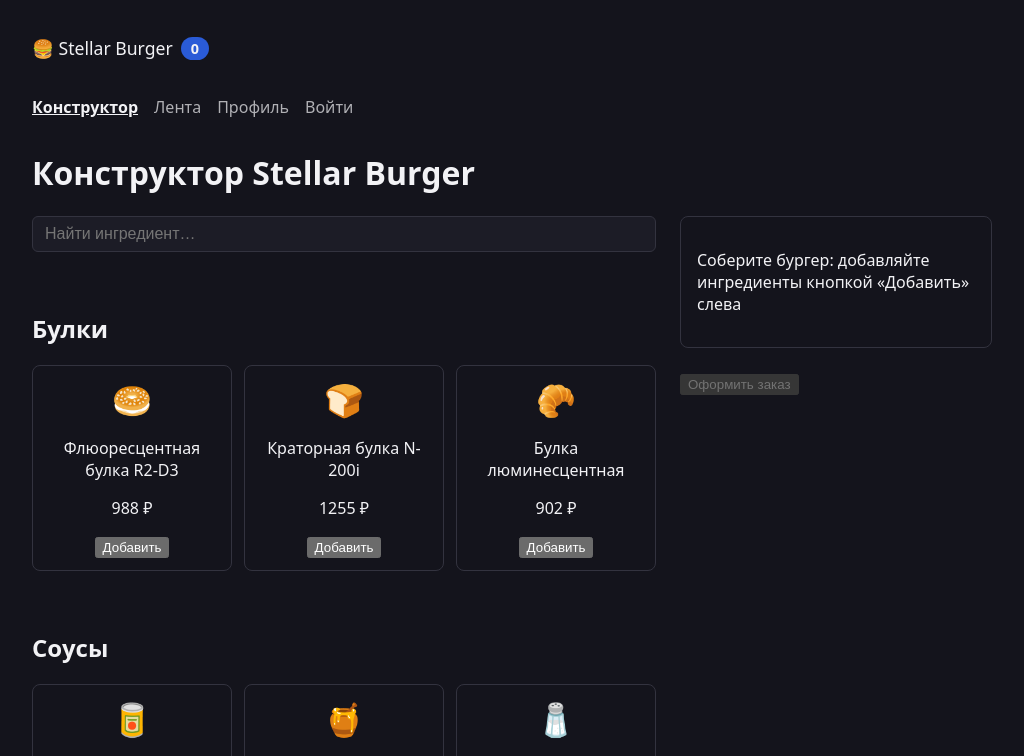
App — модальный маршрут › закрытие модалки (Escape) возвращает на фон, не теряя введённый поиск
expect the text "Флюоресцентная булка R2-D3" is shown: met, box [64,437,200,481]
Type "Соус Spicy-X" into the field with placeholder "Найти ингредиент…" at {"x": 344, "y": 234}, box [32,216,656,252]
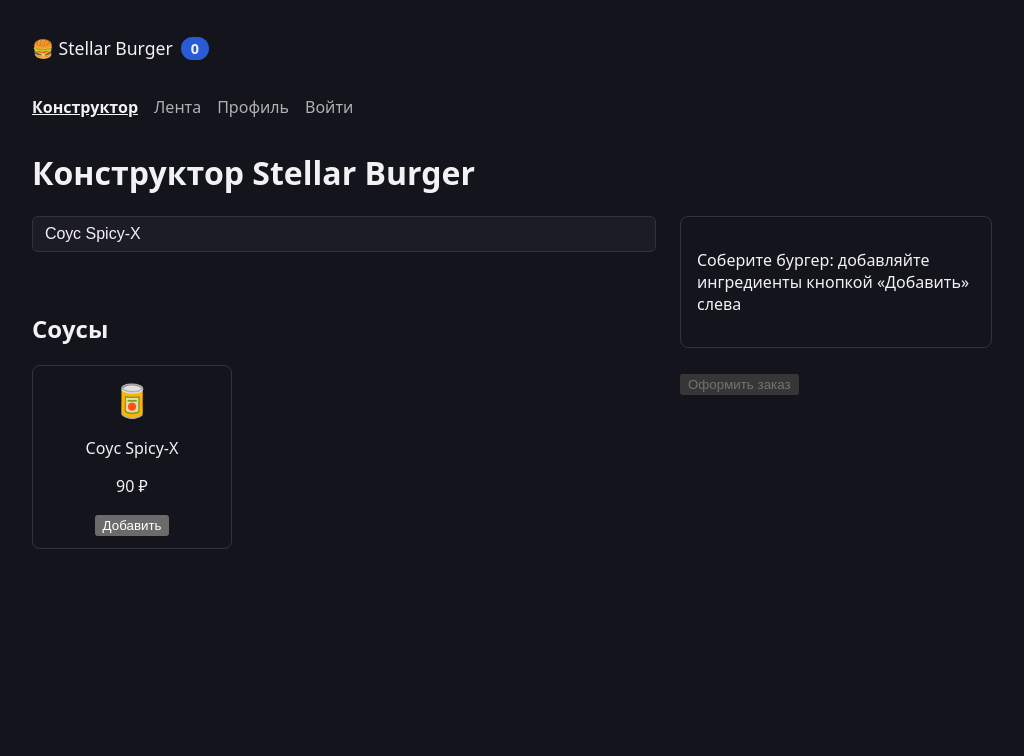
expect the text "Флюоресцентная булка R2-D3" is gone: met
Click the text "Соус Spicy-X" at {"x": 132, "y": 448}, box [86,437,178,459]
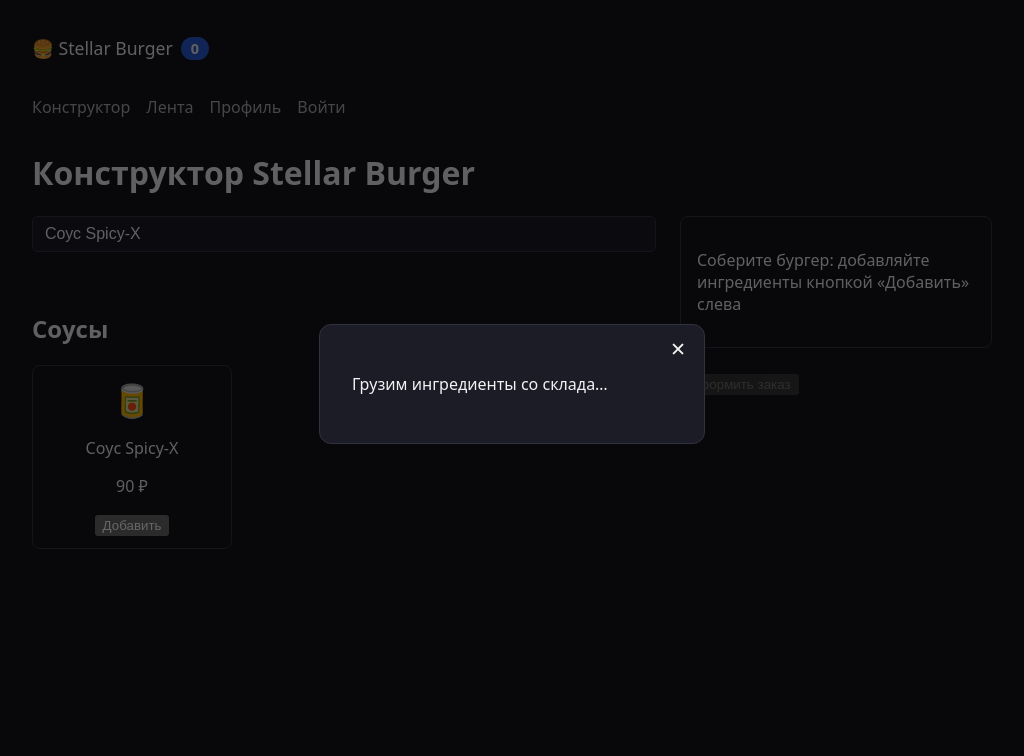
expect the dialog is shown: met, box [319,324,705,444]
Press Escape
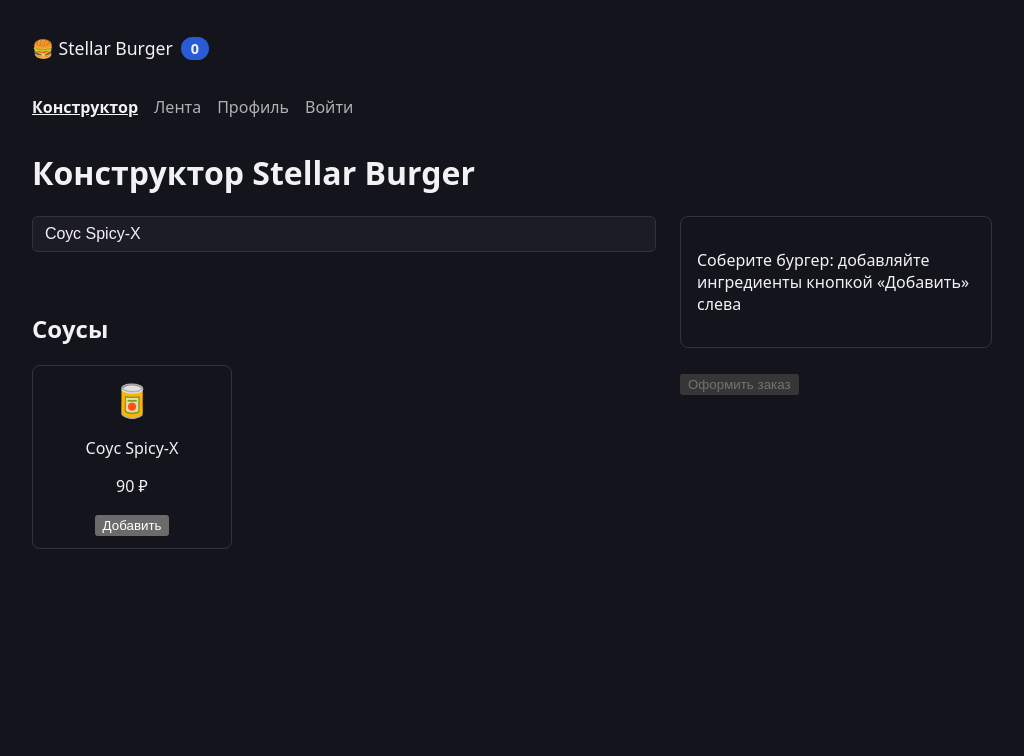
expect the dialog is gone: met
